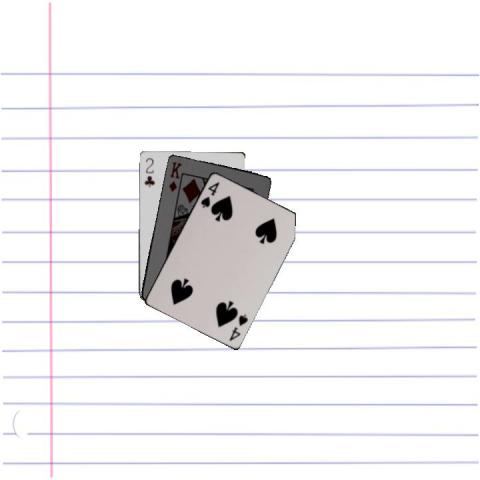2c: (141, 155, 156, 188)
4s: (197, 179, 221, 209), (226, 311, 249, 342)
Kd: (165, 159, 183, 193)
